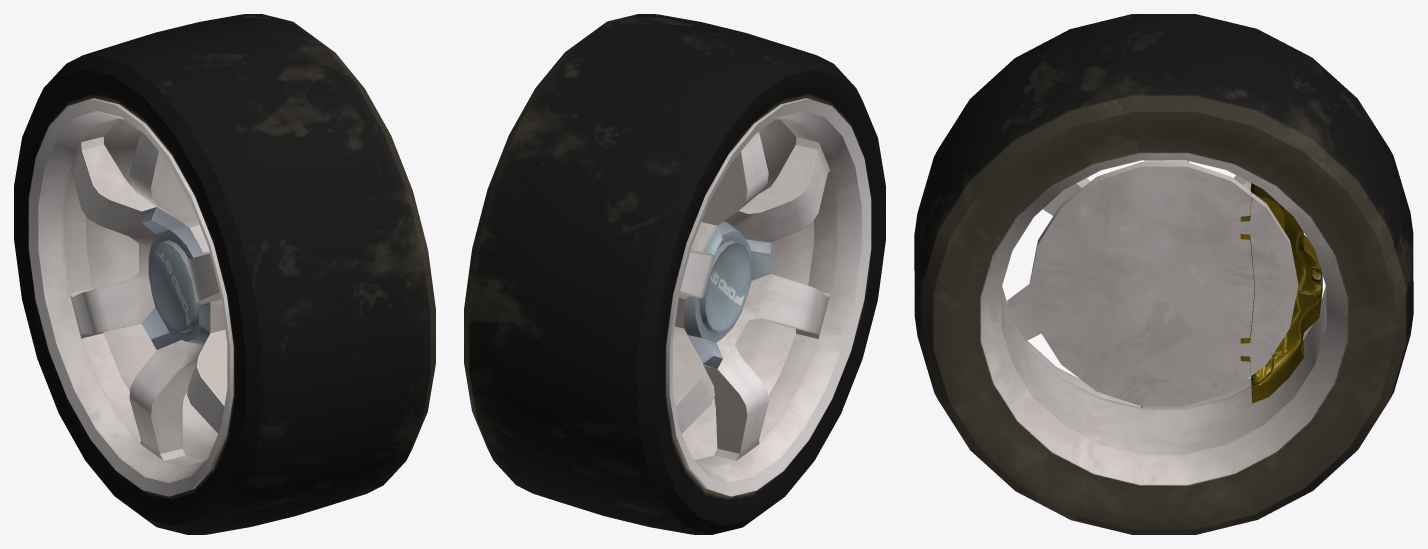
The model's file is Wheel_FR.obj.
3 renders of one model, left to right at view 1: azimuth 30°, elevation 25°; view 2: azimuth 150°, elevation 25°; view 3: azimuth 270°, elevation 25°, orthographic.
Parts seen in each view (by area): view 1: Wheel_FR; view 2: Wheel_FR; view 3: Wheel_FR.
Part boxes in pixels (x1,y1,x2,y2): Wheel_FR: (14,14,435,534); Wheel_FR: (464,14,885,534); Wheel_FR: (914,14,1413,534).
Size of the model in its own units: 6.99 by 15.83 by 15.83.
Materials: 2 (2 with a texture image).
